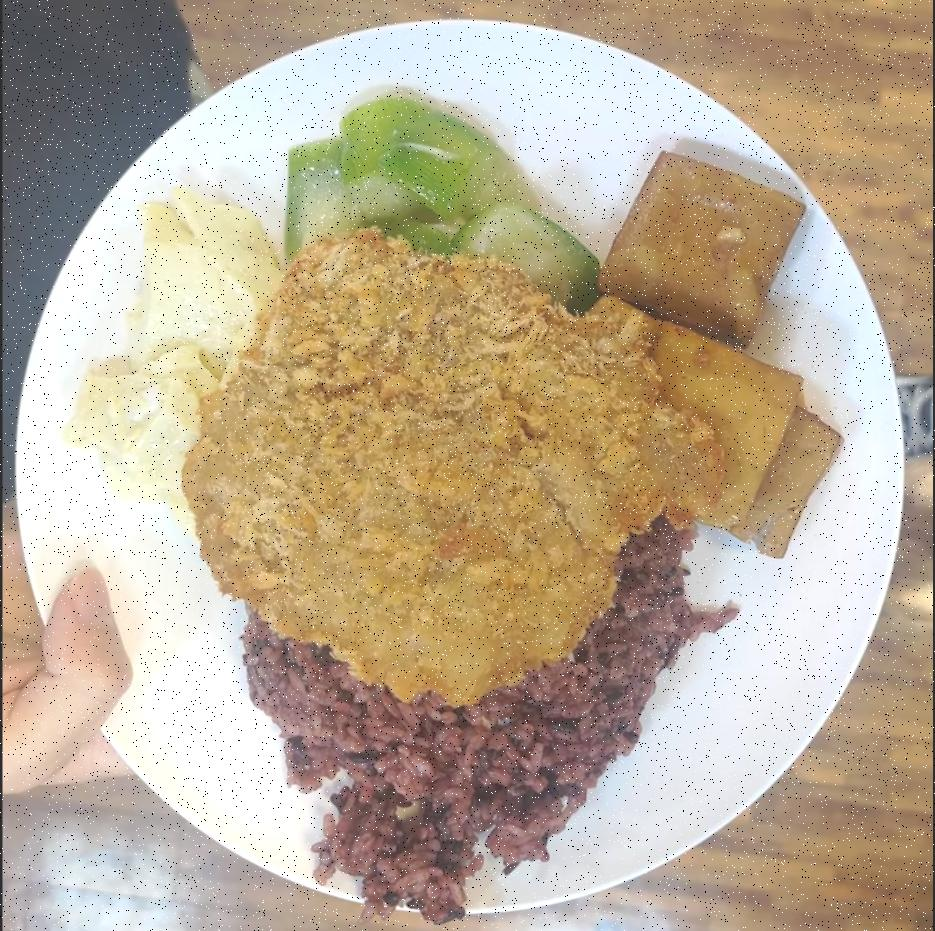fried pork chops: (173, 222, 730, 710)
plate: (20, 13, 890, 922)
purple rice: (227, 532, 742, 914)
side dish: (590, 138, 836, 572), (272, 91, 598, 336), (54, 189, 288, 520)
